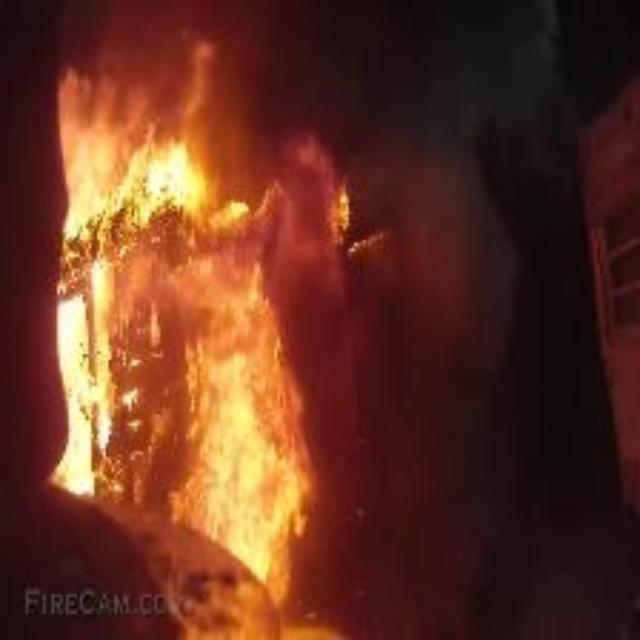fire: (54, 43, 311, 571), (331, 183, 354, 237)
